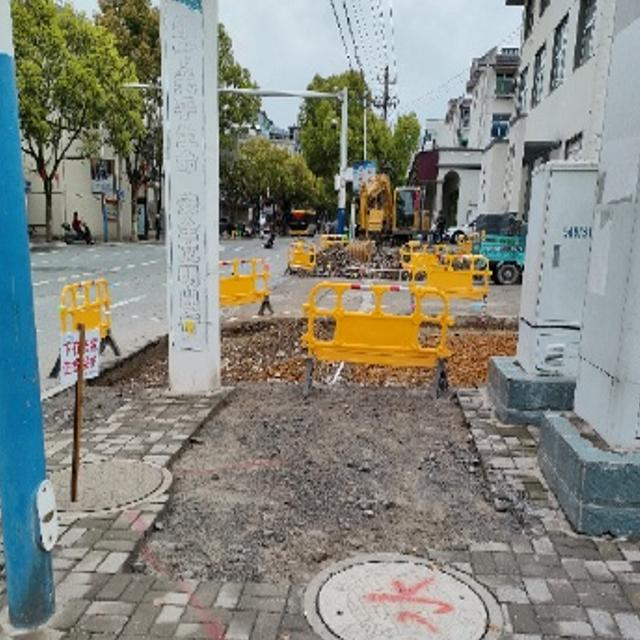good: (306, 550, 507, 640), (45, 457, 172, 512)
